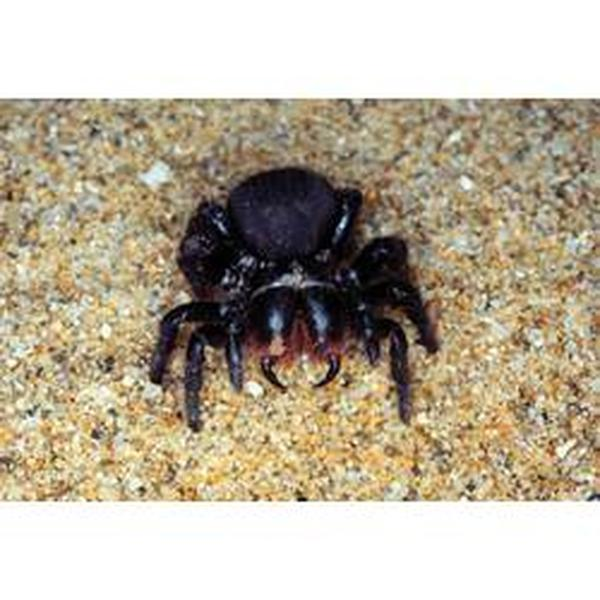Red Headed Mouse Spider: (156, 165, 436, 423)
